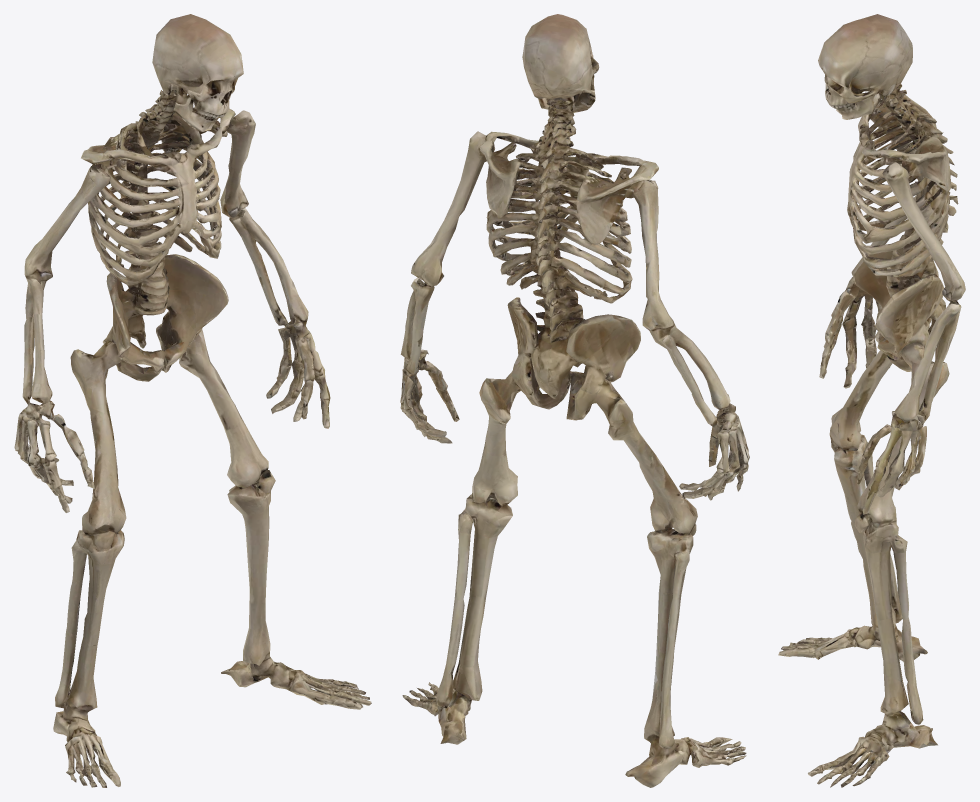
Rendered from crew-skelC.glb.
3 views of the same model, side by side, from view 1: azimuth 30°, elevation 25°; view 2: azimuth 150°, elevation 25°; view 3: azimuth 270°, elevation 25° (orthographic). The views are drawn at different scales.
Parts seen in each view (by area): view 1: char1; view 2: char1; view 3: char1.
Part boxes in pixels (<box>): char1: <box>14,14,371,787</box>; char1: <box>400,14,749,787</box>; char1: <box>778,14,965,787</box>.
Bounding box in the file's own units: 84.42 × 170 × 41.62.
1 material, 1 textured.
